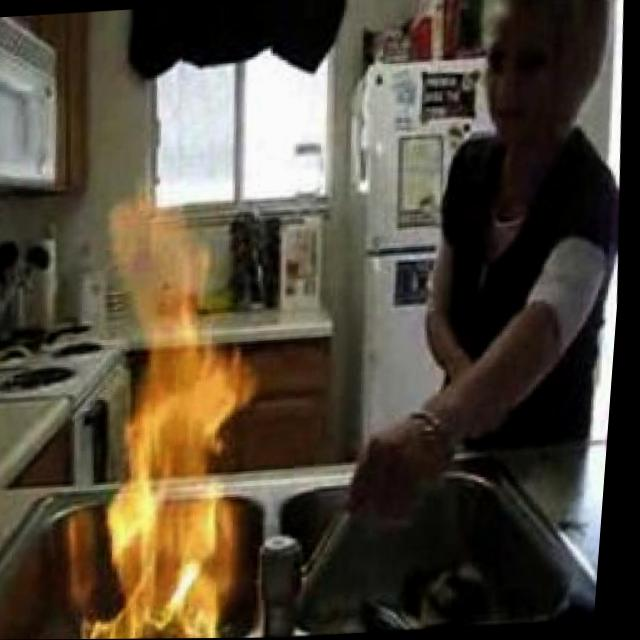helmet: (84, 187, 282, 639)
no_helmet: (84, 187, 282, 639)
